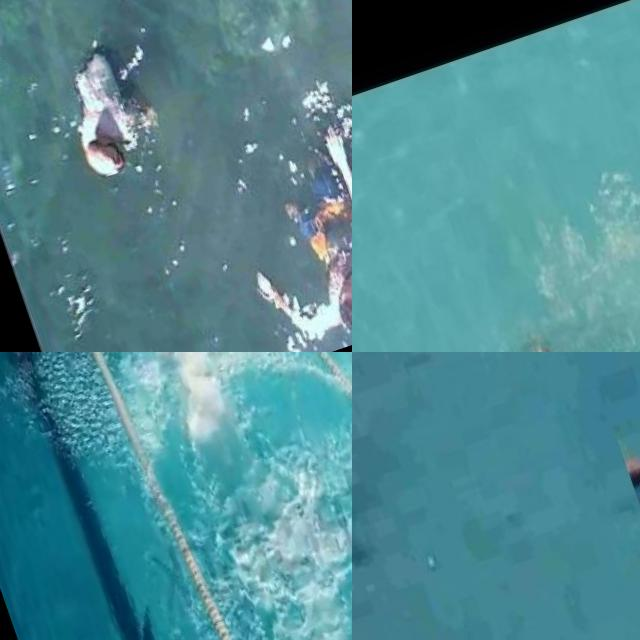swimming: (31, 34, 172, 188), (259, 111, 352, 257), (92, 352, 216, 397)
